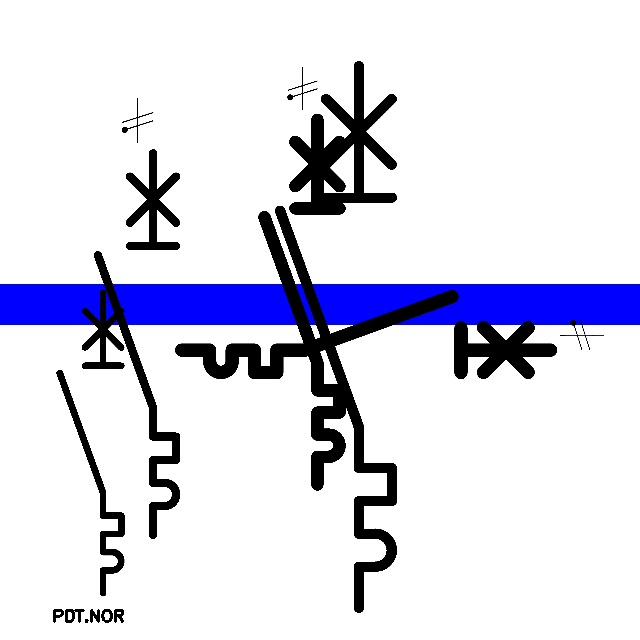interruptor_termomagnetico: (266, 52, 406, 622), (88, 143, 186, 545), (172, 287, 560, 382), (255, 110, 349, 494), (52, 285, 129, 601)
